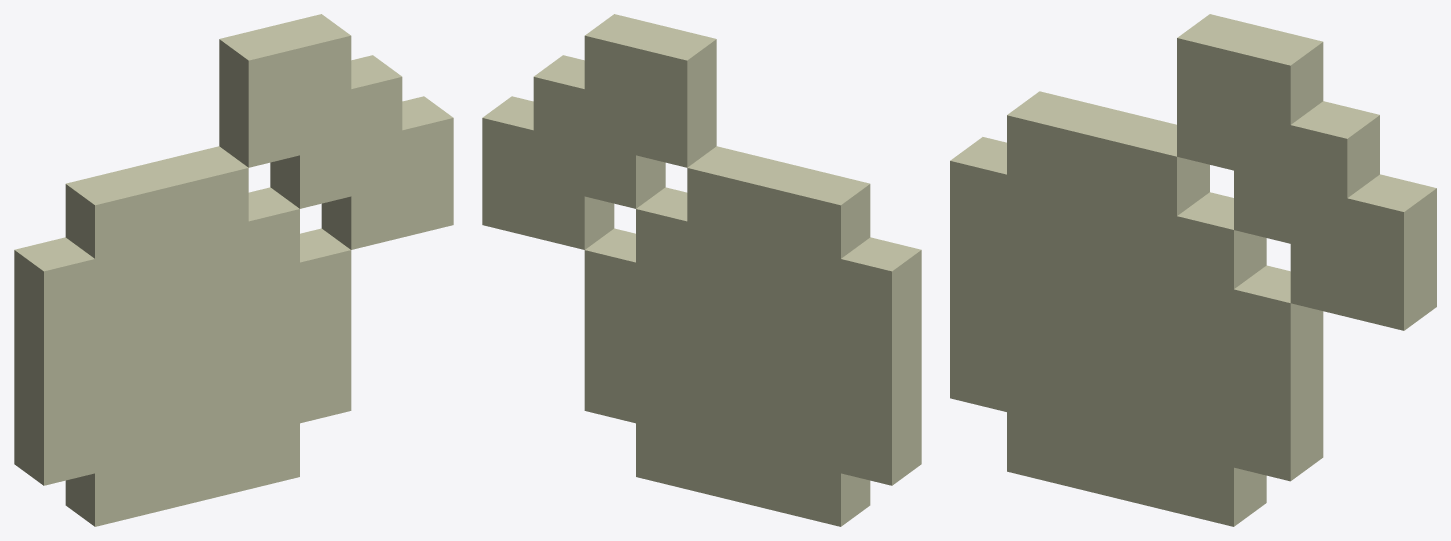
File: Bag-Large-Tan.vox.obj
3 renders of one model, left to right at view 1: azimuth 30°, elevation 25°; view 2: azimuth 150°, elevation 25°; view 3: azimuth 330°, elevation 25°, orthographic. The views are drawn at different scales.
Bounding box in the file's own units: 0.8 × 0.8 × 0.1.
1 material, 1 textured.
